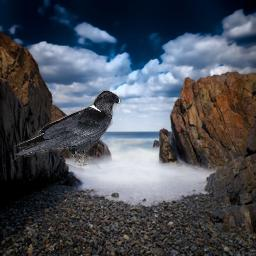Crow: (11, 90, 123, 169)
